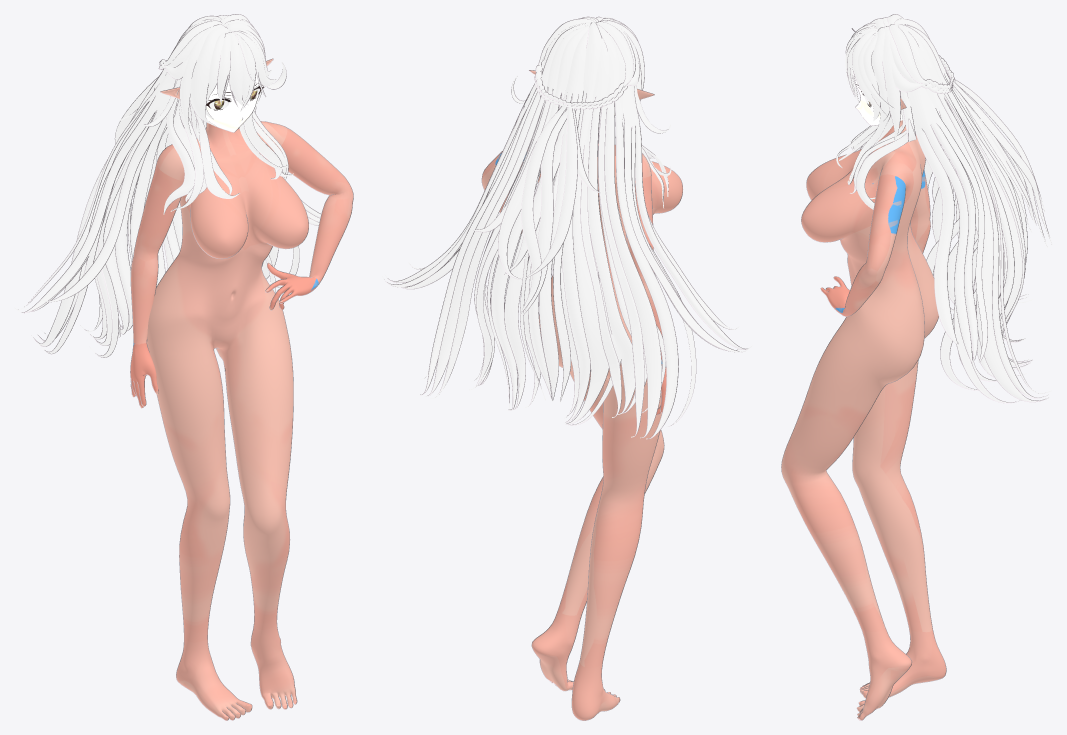
The model's file is char-valkyrie.glb.
3 renders of one model, left to right at view 1: azimuth 30°, elevation 25°; view 2: azimuth 150°, elevation 25°; view 3: azimuth 270°, elevation 25°, orthographic. The views are drawn at different scales.
Parts seen in each view (by area): view 1: body base.002_Body.002_0_1, hair front.001_Hair3_0_14, hair front.001_Hair1_0_12, hair front.001_@outline_0_10, hair front.001_Hair5_0_16, body base.002_@outline_0_0, hair front.001_Hair2_0_13, body base.002_Face.002_0_3, hair front.001_@outline_0.001_11; view 2: hair front.001_Hair3_0_14, body base.002_Body.002_0_1, hair front.001_@outline_0_10, hair front.001_Hair4_0_15, hair front.001_@outline_0.001_11, hair front.001_Hair2_0_13, body base.002_@outline_0_0, hair front.001_Hair1_0_12; view 3: body base.002_Body.002_0_1, hair front.001_Hair3_0_14, hair front.001_@outline_0_10, hair front.001_Hair1_0_12, hair front.001_@outline_0.001_11, hair front.001_Hair4_0_15, body base.002_@outline_0_0, hair front.001_Hair2_0_13, hair front.001_Hair5_0_16, body base.002_Face.002_0_3.
Part boxes in pixels (x1,y1,x2,y2): body base.002_Body.002_0_1: (130, 59, 353, 720); hair front.001_Hair3_0_14: (14, 15, 321, 357); hair front.001_Hair1_0_12: (180, 20, 276, 135); hair front.001_@outline_0_10: (18, 14, 320, 357); hair front.001_Hair5_0_16: (163, 98, 293, 214); body base.002_@outline_0_0: (130, 58, 353, 720); hair front.001_Hair2_0_13: (141, 14, 286, 126); body base.002_Face.002_0_3: (205, 64, 261, 132); hair front.001_@outline_0.001_11: (114, 15, 318, 292); hair front.001_Hair3_0_14: (382, 22, 752, 439); body base.002_Body.002_0_1: (482, 70, 682, 720); hair front.001_@outline_0_10: (387, 16, 747, 439); hair front.001_Hair4_0_15: (473, 105, 600, 315); hair front.001_@outline_0.001_11: (385, 17, 668, 409); hair front.001_Hair2_0_13: (511, 16, 670, 133); body base.002_@outline_0_0: (481, 70, 682, 720); hair front.001_Hair1_0_12: (558, 17, 644, 109); body base.002_Body.002_0_1: (781, 98, 946, 720); hair front.001_Hair3_0_14: (887, 18, 1051, 402); hair front.001_@outline_0_10: (837, 17, 1047, 403); hair front.001_Hair1_0_12: (846, 18, 900, 140); hair front.001_@outline_0.001_11: (844, 14, 1049, 402); hair front.001_Hair4_0_15: (949, 77, 1052, 247); body base.002_@outline_0_0: (781, 75, 946, 720); hair front.001_Hair2_0_13: (845, 14, 954, 141); hair front.001_Hair5_0_16: (836, 94, 907, 209); body base.002_Face.002_0_3: (852, 70, 902, 125).
Bounding box in the file's own units: 0.846 × 1.59 × 0.5821.
12 materials, 4 textured.
